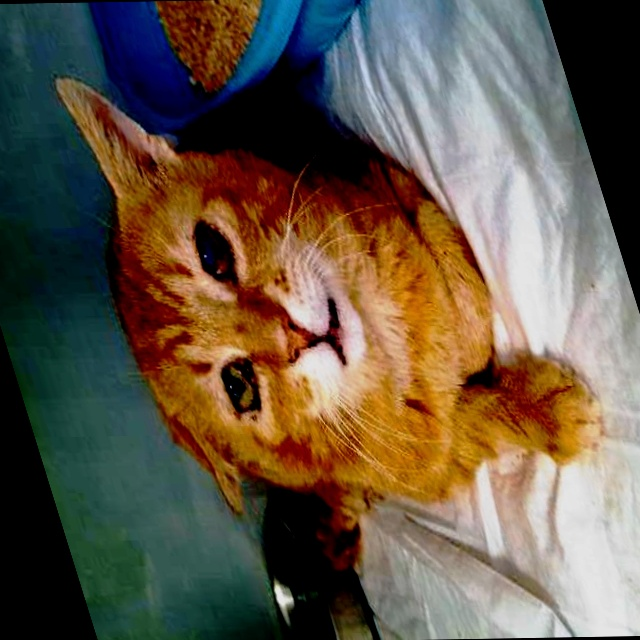eye_infection: (183, 223, 249, 283), (211, 355, 273, 417)
